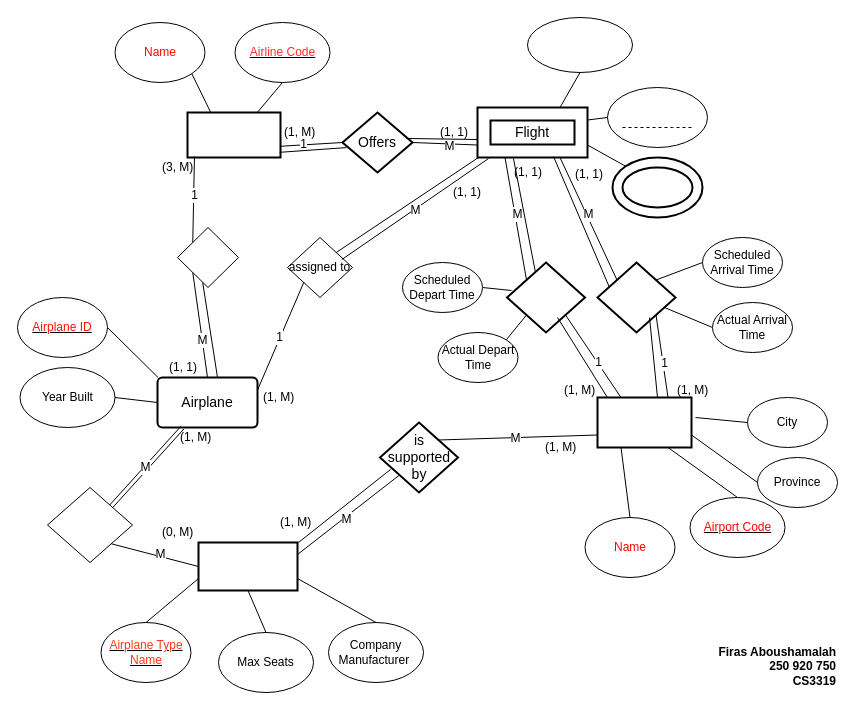
The diagram is 855 pixels wide and 710 high, and some of its shapes have lost their labels. The shapes that lost their labels are listed below. From the top down, each one's centre as x and y in pixels, then its label:
At (579,44): "Status (active/cancelled)".
At (233,134): "Airline".
At (657,117): "Flight Number".
At (657,187): "Days Offered".
At (207,257): "Owns".
At (546,297): "Departs".
At (636,297): "Arrives".
At (644,422): "Airport".
At (89,524): "Designed By".
At (247,566): "Airplane Type".
